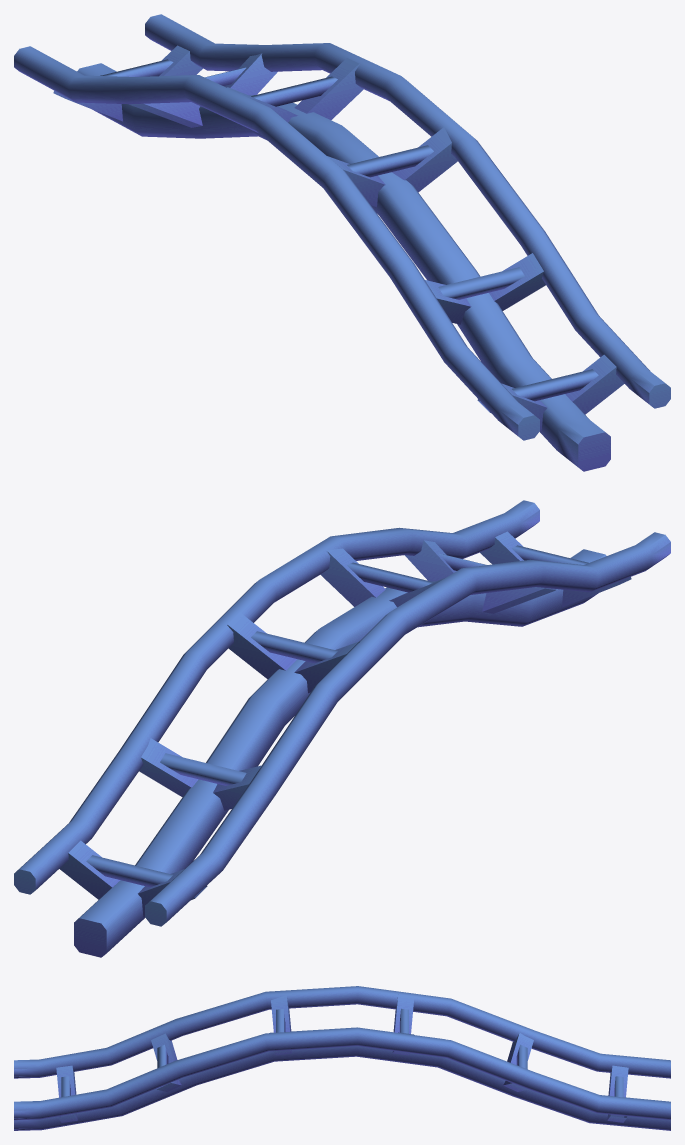
File: coaster-steel-straight-bump-up.glb
The picture shows the model from 3 angles, top to bottom: view 1: azimuth 30°, elevation 25°; view 2: azimuth 150°, elevation 25°; view 3: azimuth 270°, elevation 25°; orthographic projection. The views are drawn at different scales.
Visible parts, largest first — view 1: coaster-steel-straight-bump-up; view 2: coaster-steel-straight-bump-up; view 3: coaster-steel-straight-bump-up.
Part boxes in pixels (bbox=[...]): coaster-steel-straight-bump-up: bbox=[14, 14, 670, 471]; coaster-steel-straight-bump-up: bbox=[14, 500, 670, 957]; coaster-steel-straight-bump-up: bbox=[14, 986, 670, 1130].
Size of the model in its own units: 2.1 by 2.4 by 12.
1 material, 1 textured.
